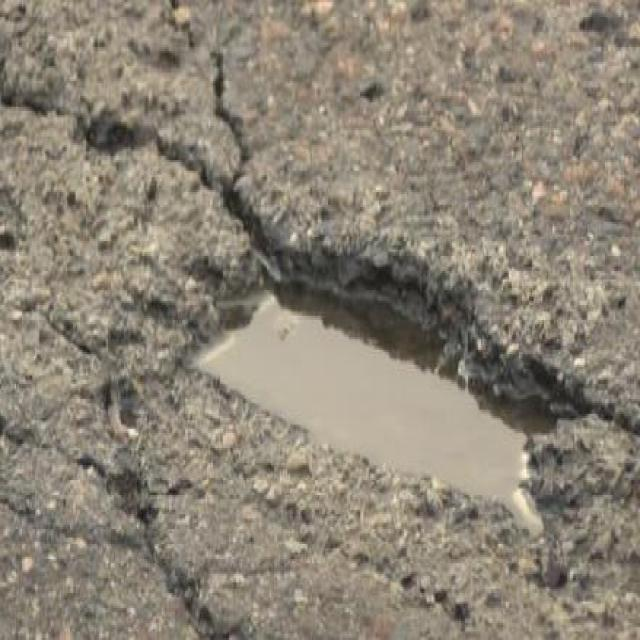pothole: (165, 228, 611, 548)
